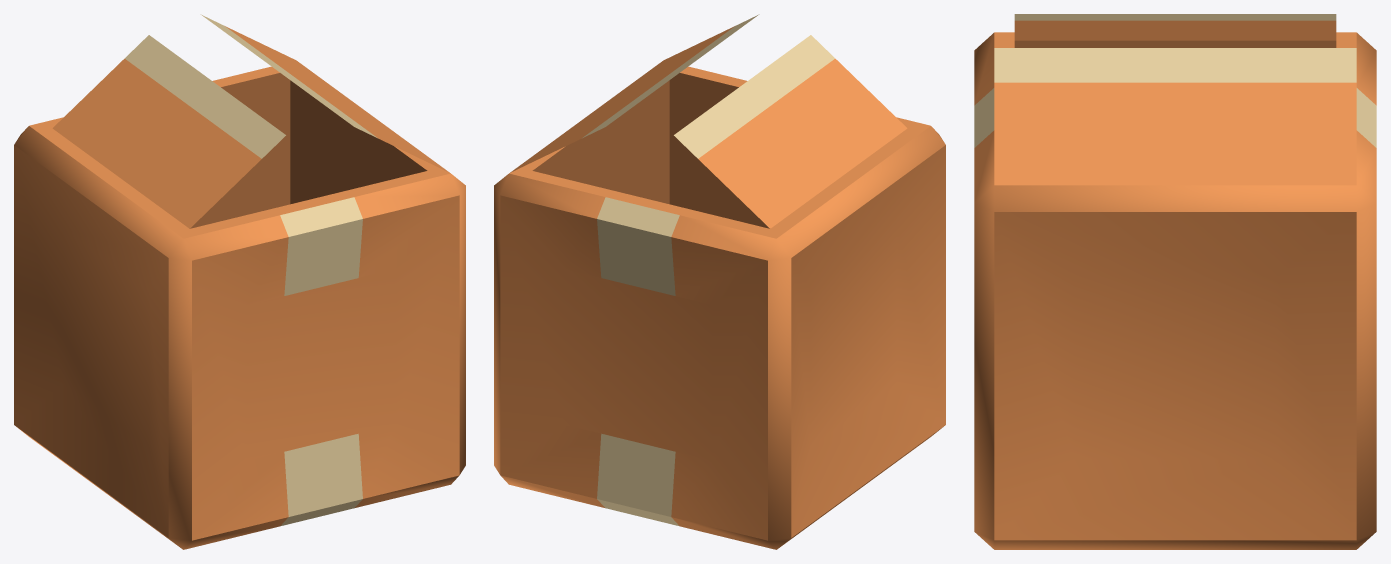
File: boxOpen.fbx
3 views of the same model, side by side, from view 1: azimuth 30°, elevation 25°; view 2: azimuth 150°, elevation 25°; view 3: azimuth 270°, elevation 25° (orthographic). The views are drawn at different scales.
Visible parts, largest first — view 1: boxOpen; view 2: boxOpen; view 3: boxOpen.
Part boxes in pixels (left/top/right/bottom): boxOpen: left=14, top=14, right=465, bottom=549; boxOpen: left=494, top=14, right=945, bottom=549; boxOpen: left=974, top=14, right=1376, bottom=549.
Bounding box in the file's own units: 2.5 × 3.06 × 2.5.
